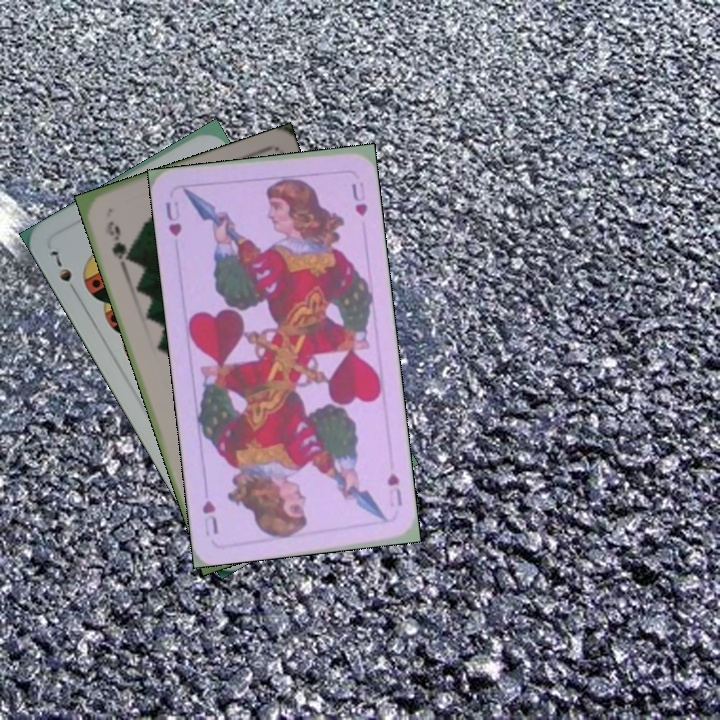G9: (101, 216, 133, 266)
HU: (161, 197, 184, 239), (383, 469, 405, 509)
S7: (45, 244, 80, 297)
